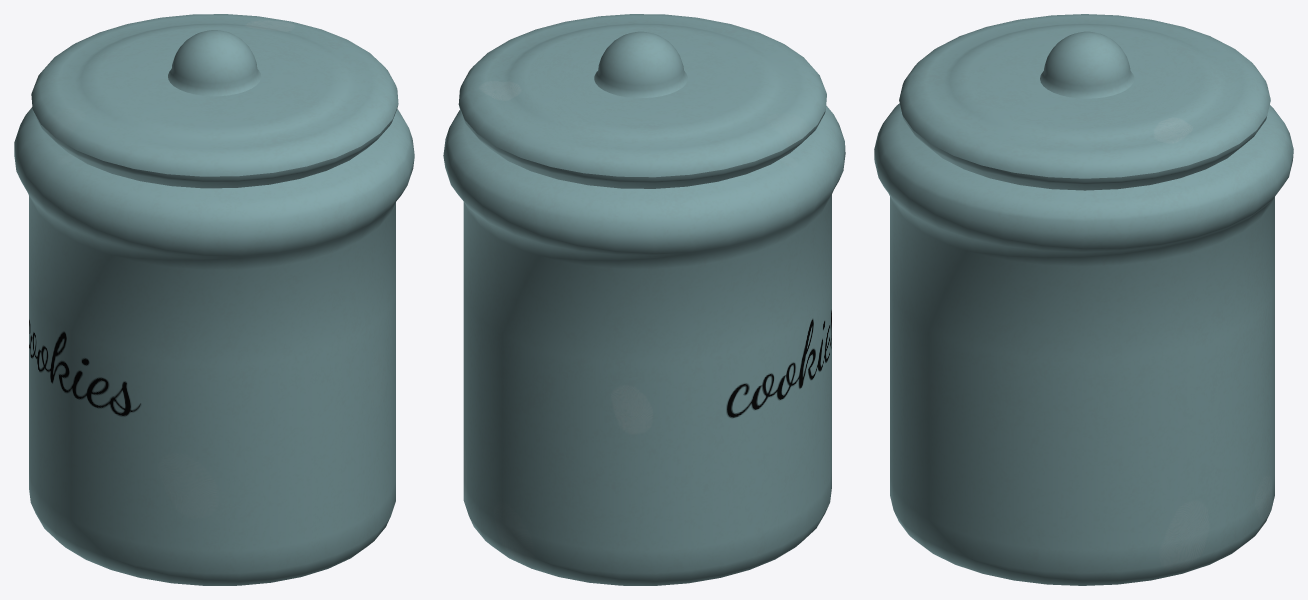
The model's file is cookiejar.fbx.
The picture shows the model from 3 angles, left to right: view 1: azimuth 30°, elevation 25°; view 2: azimuth 150°, elevation 25°; view 3: azimuth 270°, elevation 25°; orthographic projection.
Visible parts, largest first — view 1: cookie jar; view 2: cookie jar; view 3: cookie jar.
Part boxes in pixels (x1,y1,x2,y2): cookie jar: (14, 14, 414, 585); cookie jar: (443, 14, 845, 585); cookie jar: (874, 14, 1293, 585).
Bounding box in the file's own units: 191 × 253 × 200.
